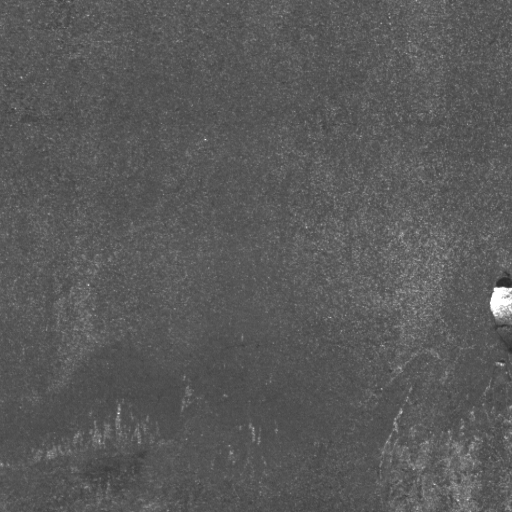qiaopi: (487, 275, 512, 347)
